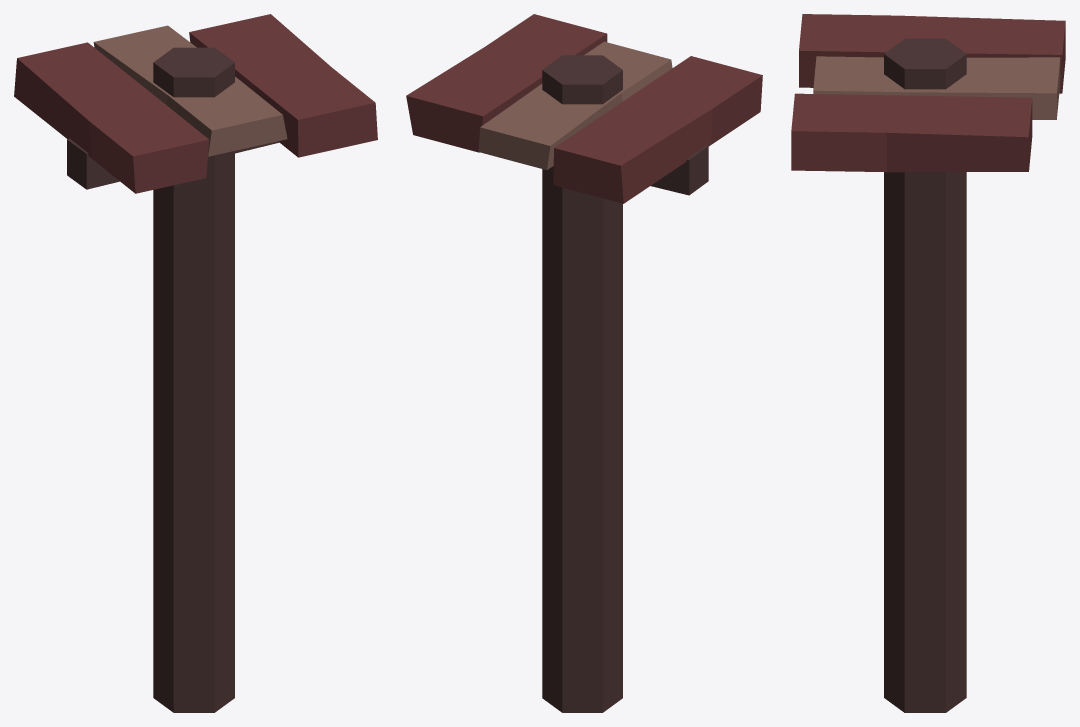
The model's file is DarkRoseWoodFloorSmallMinePlatform1.fbx.
The picture shows the model from 3 angles, left to right: view 1: azimuth 30°, elevation 25°; view 2: azimuth 150°, elevation 25°; view 3: azimuth 270°, elevation 25°; orthographic projection. The views are drawn at different scales.
Visible parts, largest first — view 1: DarkRoseWoodFloorSmallMinePlatform1; view 2: DarkRoseWoodFloorSmallMinePlatform1; view 3: DarkRoseWoodFloorSmallMinePlatform1.
Boxes of the visible parts, left/top/right/bottom form: DarkRoseWoodFloorSmallMinePlatform1: left=14, top=14, right=377, bottom=712; DarkRoseWoodFloorSmallMinePlatform1: left=406, top=14, right=762, bottom=712; DarkRoseWoodFloorSmallMinePlatform1: left=791, top=14, right=1065, bottom=712.
Size of the model in its own units: 279 by 679 by 262.
